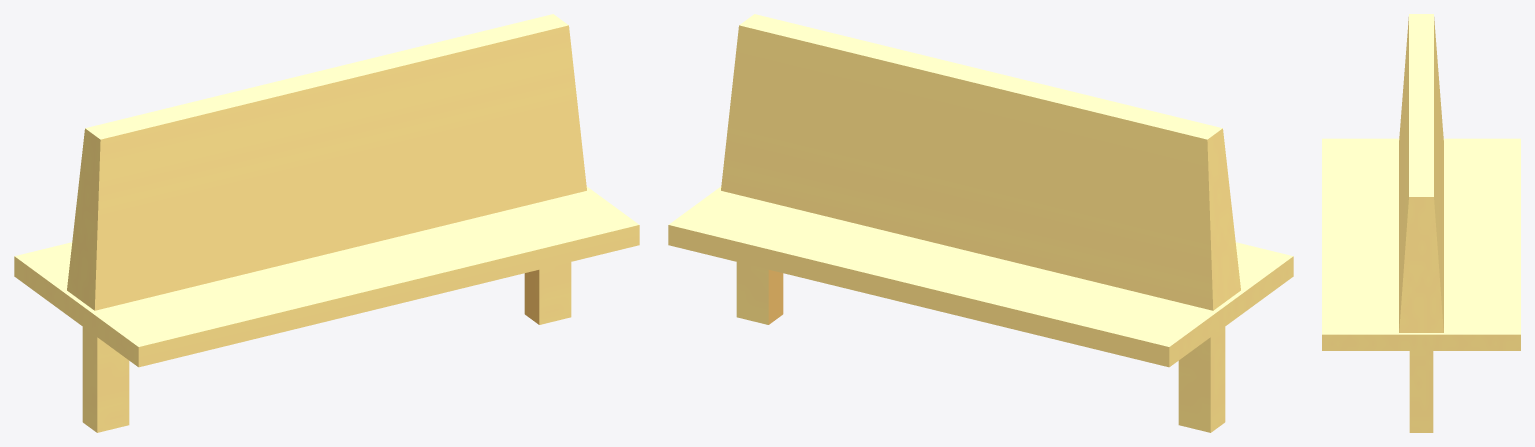
File: bench.002.glb
The picture shows the model from 3 angles, left to right: view 1: azimuth 30°, elevation 25°; view 2: azimuth 150°, elevation 25°; view 3: azimuth 270°, elevation 25°; orthographic projection. The views are drawn at different scales.
Parts seen in each view (by area): view 1: bench.002(Clone); view 2: bench.002(Clone); view 3: bench.002(Clone).
Part boxes in pixels (bbox=[...]): bench.002(Clone): bbox=[14, 14, 639, 432]; bench.002(Clone): bbox=[668, 14, 1293, 432]; bench.002(Clone): bbox=[1322, 14, 1520, 432].
Size of the model in its own units: 1.68 by 0.9373 by 0.72.
Materials: 1 (1 with a texture image).
